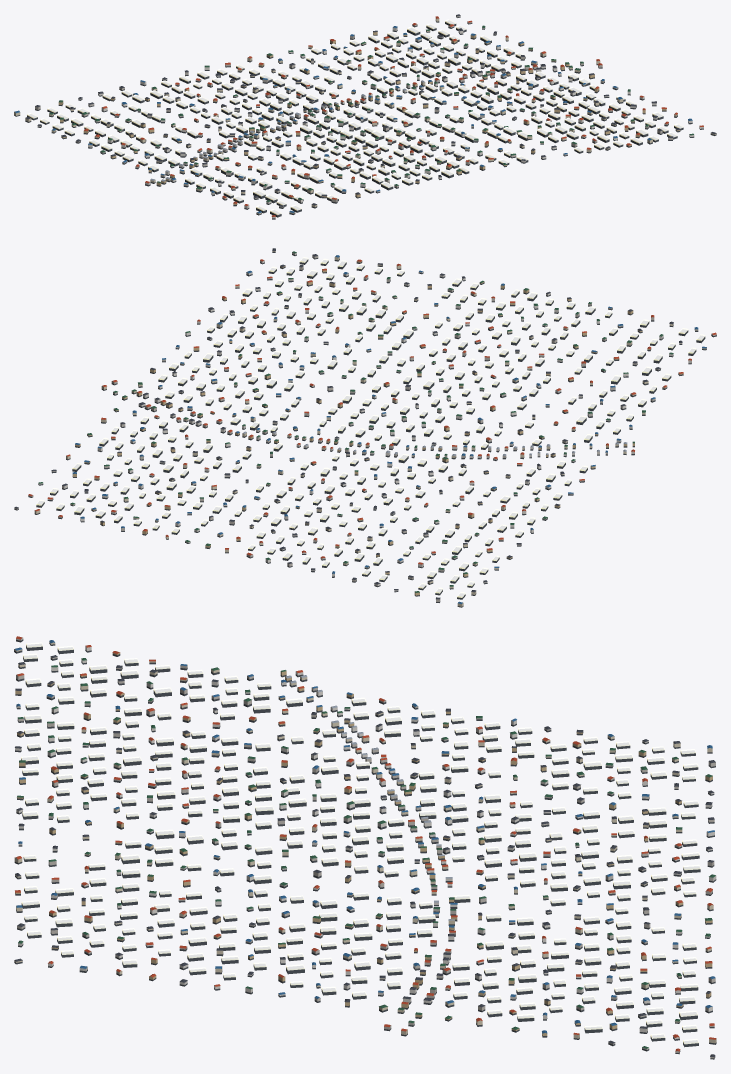
The model's file is buildings_T_E00_N07.glb.
3 renders of one model, top to bottom at view 1: azimuth 30°, elevation 25°; view 2: azimuth 150°, elevation 25°; view 3: azimuth 270°, elevation 25°, orthographic. The views are drawn at different scales.
Visible parts, largest first — view 1: T_E00_N07_slope_seating_foundations, T_E00_N07_roofs_agri_greenhouse_arch, T_E00_N07_walls_wall_modern_warm_white, T_E00_N07_walls_wall_french_ochre_villa, T_E00_N07_walls_wall_pastel_sand_gray, T_E00_N07_walls_wall_dalat_cream_stucco, T_E00_N07_roofs_roof_slate_French_villa_hip, T_E00_N07_roofs_roof_terracotta_gable, T_E00_N07_roofs_roof_pine_green_hip, T_E00_N07_roofs_roof_highland_blue_gable; view 2: T_E00_N07_slope_seating_foundations, T_E00_N07_roofs_agri_greenhouse_arch, T_E00_N07_walls_wall_modern_warm_white, T_E00_N07_walls_wall_french_ochre_villa, T_E00_N07_walls_wall_pastel_sand_gray, T_E00_N07_walls_wall_dalat_cream_stucco, T_E00_N07_roofs_roof_slate_French_villa_hip, T_E00_N07_roofs_roof_terracotta_gable, T_E00_N07_roofs_roof_pine_green_hip, T_E00_N07_roofs_roof_highland_blue_gable; view 3: T_E00_N07_slope_seating_foundations, T_E00_N07_roofs_agri_greenhouse_arch, T_E00_N07_walls_wall_modern_warm_white, T_E00_N07_walls_wall_pastel_sand_gray, T_E00_N07_walls_wall_french_ochre_villa, T_E00_N07_walls_wall_dalat_cream_stucco, T_E00_N07_roofs_roof_slate_French_villa_hip, T_E00_N07_roofs_roof_terracotta_gable, T_E00_N07_roofs_roof_pine_green_hip, T_E00_N07_roofs_roof_highland_blue_gable.
Boxes of the visible parts, <box> form: T_E00_N07_slope_seating_foundations: <box>14,16,716,219</box>; T_E00_N07_roofs_agri_greenhouse_arch: <box>27,19,683,215</box>; T_E00_N07_walls_wall_modern_warm_white: <box>37,26,703,218</box>; T_E00_N07_walls_wall_french_ochre_villa: <box>58,32,680,204</box>; T_E00_N07_walls_wall_pastel_sand_gray: <box>35,15,672,207</box>; T_E00_N07_walls_wall_dalat_cream_stucco: <box>14,18,716,214</box>; T_E00_N07_roofs_roof_slate_French_villa_hip: <box>25,14,716,206</box>; T_E00_N07_roofs_roof_terracotta_gable: <box>84,16,703,217</box>; T_E00_N07_roofs_roof_pine_green_hip: <box>49,25,693,201</box>; T_E00_N07_roofs_roof_highland_blue_gable: <box>14,26,692,213</box>; T_E00_N07_slope_seating_foundations: <box>14,250,716,607</box>; T_E00_N07_roofs_agri_greenhouse_arch: <box>36,257,705,597</box>; T_E00_N07_walls_wall_modern_warm_white: <box>38,252,716,591</box>; T_E00_N07_walls_wall_french_ochre_villa: <box>72,261,683,595</box>; T_E00_N07_walls_wall_pastel_sand_gray: <box>14,255,682,601</box>; T_E00_N07_walls_wall_dalat_cream_stucco: <box>34,251,706,606</box>; T_E00_N07_roofs_roof_slate_French_villa_hip: <box>14,248,682,599</box>; T_E00_N07_roofs_roof_terracotta_gable: <box>28,259,716,564</box>; T_E00_N07_roofs_roof_pine_green_hip: <box>38,251,673,592</box>; T_E00_N07_roofs_roof_highland_blue_gable: <box>72,255,706,603</box>; T_E00_N07_slope_seating_foundations: <box>14,639,716,1059</box>; T_E00_N07_roofs_agri_greenhouse_arch: <box>21,642,700,1044</box>; T_E00_N07_walls_wall_modern_warm_white: <box>15,637,716,1049</box>; T_E00_N07_walls_wall_pastel_sand_gray: <box>16,657,715,1058</box>; T_E00_N07_walls_wall_french_ochre_villa: <box>15,652,712,1035</box>; T_E00_N07_walls_wall_dalat_cream_stucco: <box>14,641,716,1043</box>; T_E00_N07_roofs_roof_slate_French_villa_hip: <box>14,655,715,1057</box>; T_E00_N07_roofs_roof_terracotta_gable: <box>15,636,716,1051</box>; T_E00_N07_roofs_roof_pine_green_hip: <box>17,658,715,1048</box>; T_E00_N07_roofs_roof_highland_blue_gable: <box>14,640,715,1033</box>.
Bounding box in the file's own units: 1925 × 369 × 1754.
